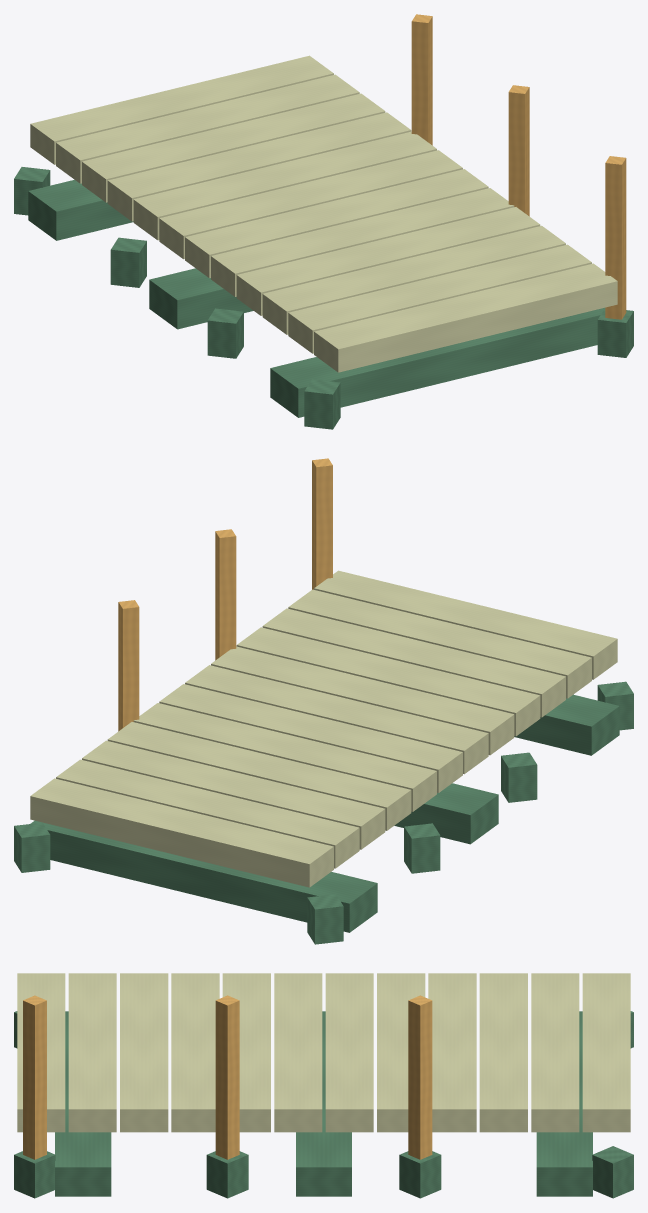
Rendered from atlas100-s004-a02.lod2.glb.
3 views of the same model, one above another, from view 1: azimuth 30°, elevation 25°; view 2: azimuth 150°, elevation 25°; view 3: azimuth 270°, elevation 25° (orthographic).
Visible parts, largest first — view 1: atlas100-s004-a02:part-011, atlas100-s004-a02:part-032, atlas100-s004-a02:part-003, atlas100-s004-a02:part-008, atlas100-s004-a02:part-009, atlas100-s004-a02:part-004, atlas100-s004-a02:part-005, atlas100-s004-a02:part-001, atlas100-s004-a02:part-002, atlas100-s004-a02:part-000, atlas100-s004-a02:part-010, atlas100-s004-a02:part-006 (+11 smaller); view 2: atlas100-s004-a02:part-000, atlas100-s004-a02:part-030, atlas100-s004-a02:part-008, atlas100-s004-a02:part-003, atlas100-s004-a02:part-002, atlas100-s004-a02:part-007, atlas100-s004-a02:part-006, atlas100-s004-a02:part-010, atlas100-s004-a02:part-009, atlas100-s004-a02:part-001, atlas100-s004-a02:part-005, atlas100-s004-a02:part-004 (+11 smaller); view 3: atlas100-s004-a02:part-000, atlas100-s004-a02:part-001, atlas100-s004-a02:part-002, atlas100-s004-a02:part-005, atlas100-s004-a02:part-006, atlas100-s004-a02:part-009, atlas100-s004-a02:part-010, atlas100-s004-a02:part-003, atlas100-s004-a02:part-008, atlas100-s004-a02:part-004, atlas100-s004-a02:part-007, atlas100-s004-a02:part-011 (+10 smaller).
Boxes of the visible parts, bbox=[...] form: atlas100-s004-a02:part-011: bbox=[314, 263, 617, 372]; atlas100-s004-a02:part-032: bbox=[270, 307, 604, 417]; atlas100-s004-a02:part-003: bbox=[107, 112, 411, 221]; atlas100-s004-a02:part-008: bbox=[236, 207, 540, 315]; atlas100-s004-a02:part-009: bbox=[262, 225, 565, 334]; atlas100-s004-a02:part-004: bbox=[133, 131, 436, 240]; atlas100-s004-a02:part-005: bbox=[159, 150, 462, 259]; atlas100-s004-a02:part-001: bbox=[56, 74, 359, 183]; atlas100-s004-a02:part-002: bbox=[82, 93, 385, 202]; atlas100-s004-a02:part-000: bbox=[30, 55, 333, 164]; atlas100-s004-a02:part-010: bbox=[288, 244, 591, 353]; atlas100-s004-a02:part-006: bbox=[185, 169, 488, 277]; atlas100-s004-a02:part-000: bbox=[30, 778, 333, 887]; atlas100-s004-a02:part-030: bbox=[30, 820, 377, 932]; atlas100-s004-a02:part-008: bbox=[236, 627, 540, 736]; atlas100-s004-a02:part-003: bbox=[107, 722, 411, 830]; atlas100-s004-a02:part-002: bbox=[82, 740, 385, 849]; atlas100-s004-a02:part-007: bbox=[211, 646, 514, 755]; atlas100-s004-a02:part-006: bbox=[185, 665, 488, 774]; atlas100-s004-a02:part-010: bbox=[288, 589, 591, 698]; atlas100-s004-a02:part-009: bbox=[262, 608, 565, 717]; atlas100-s004-a02:part-001: bbox=[56, 759, 359, 868]; atlas100-s004-a02:part-005: bbox=[159, 684, 462, 792]; atlas100-s004-a02:part-004: bbox=[133, 703, 436, 811]; atlas100-s004-a02:part-000: bbox=[582, 973, 630, 1132]; atlas100-s004-a02:part-001: bbox=[531, 973, 579, 1132]; atlas100-s004-a02:part-002: bbox=[479, 973, 527, 1132]; atlas100-s004-a02:part-005: bbox=[325, 973, 373, 1132]; atlas100-s004-a02:part-006: bbox=[274, 973, 322, 1132]; atlas100-s004-a02:part-009: bbox=[120, 973, 168, 1132]; atlas100-s004-a02:part-010: bbox=[68, 973, 116, 1132]; atlas100-s004-a02:part-003: bbox=[428, 973, 476, 1132]; atlas100-s004-a02:part-008: bbox=[171, 973, 219, 1132]; atlas100-s004-a02:part-004: bbox=[377, 973, 425, 1132]; atlas100-s004-a02:part-007: bbox=[222, 973, 270, 1132]; atlas100-s004-a02:part-011: bbox=[17, 973, 65, 1132].
Size of the model in its own units: 2.36 by 1.3 by 3.86.
Materials: 3 (3 with a texture image).
